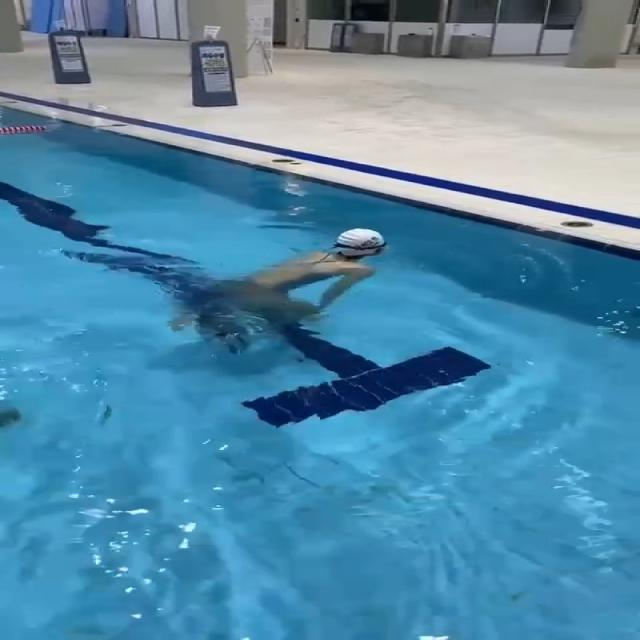Swimming: (164, 224, 394, 350)
